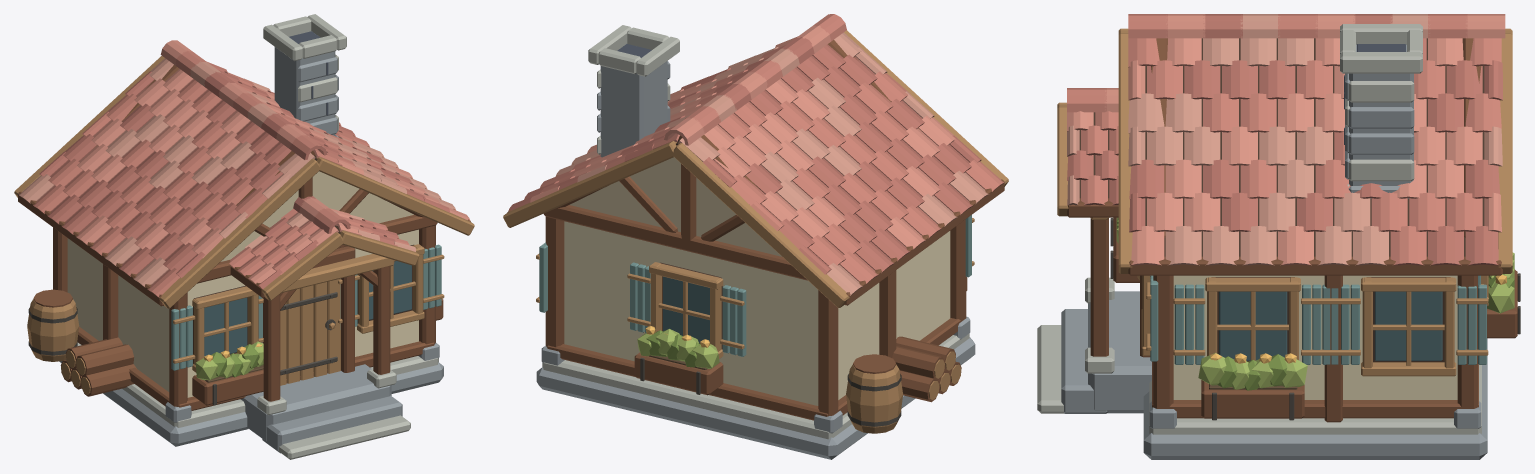
The model's file is HearthCottage_SharedUV.glb.
3 renders of one model, left to right at view 1: azimuth 30°, elevation 25°; view 2: azimuth 150°, elevation 25°; view 3: azimuth 270°, elevation 25°, orthographic. The views are drawn at different scales.
Visible parts, largest first — view 1: Roof | main curved tiles, Walls | lime plaster, Front left window, Structure | timber frame, Door | oak and iron, Chimney | masonry, Roof | porch curved tiles, Porch | landing, Front right window, Roof | main ridge caps, Foundation | solid plinth, Props | firewood (+15 smaller); view 2: Roof | main curved tiles, Walls | lime plaster, Structure | timber frame, Rear window, Chimney | masonry, Foundation | solid plinth, Gable | plaster.001, Roof | main ridge caps, Foundation | top course, Props | rain barrel, Main roof | bargeboard.001, Props | firewood (+4 smaller); view 3: Roof | main curved tiles, East window, East rear window, Chimney | masonry, Structure | timber frame, Foundation | solid plinth, Roof | main ridge caps, Walls | lime plaster, Foundation | top course, Porch | landing, Main roof | eave.001, Roof | porch curved tiles (+13 smaller).
Boxes of the visible parts, <box> form: Roof | main curved tiles: <box>18,58,470,297</box>; Walls | lime plaster: <box>67,229,418,397</box>; Front left window: <box>171,285,263,405</box>; Structure | timber frame: <box>53,65,439,422</box>; Door | oak and iron: <box>263,246,355,385</box>; Chimney | masonry: <box>263,14,346,137</box>; Roof | porch curved tiles: <box>229,208,415,289</box>; Porch | landing: <box>240,364,391,441</box>; Front right window: <box>338,244,444,333</box>; Roof | main ridge caps: <box>160,40,327,159</box>; Foundation | solid plinth: <box>59,361,443,446</box>; Props | firewood: <box>60,337,136,396</box>; Roof | main curved tiles: <box>508,32,1004,295</box>; Walls | lime plaster: <box>564,221,950,405</box>; Structure | timber frame: <box>541,40,970,433</box>; Rear window: <box>627,262,746,395</box>; Chimney | masonry: <box>588,25,679,157</box>; Foundation | solid plinth: <box>536,337,975,459</box>; Gable | plaster.001: <box>569,157,781,256</box>; Roof | main ridge caps: <box>664,14,846,145</box>; Foundation | top course: <box>542,333,969,439</box>; Props | rain barrel: <box>846,354,903,433</box>; Main roof | bargeboard.001: <box>672,143,849,307</box>; Props | firewood: <box>892,336,961,402</box>; Roof | main curved tiles: <box>1128,38,1502,265</box>; East window: <box>1173,277,1331,420</box>; East rear window: <box>1330,277,1488,376</box>; Chimney | masonry: <box>1340,24,1422,198</box>; Structure | timber frame: <box>1149,38,1481,428</box>; Foundation | solid plinth: <box>1143,338,1487,459</box>; Roof | main ridge caps: <box>1128,14,1505,38</box>; Walls | lime plaster: <box>1173,275,1457,399</box>; Foundation | top course: <box>1149,365,1481,434</box>; Porch | landing: <box>1088,291,1151,413</box>; Main roof | eave.001: <box>1128,256,1502,275</box>; Roof | porch curved tiles: <box>1067,111,1118,205</box>.
Bounding box in the file's own units: 4.4 × 3.8 × 4.26.
